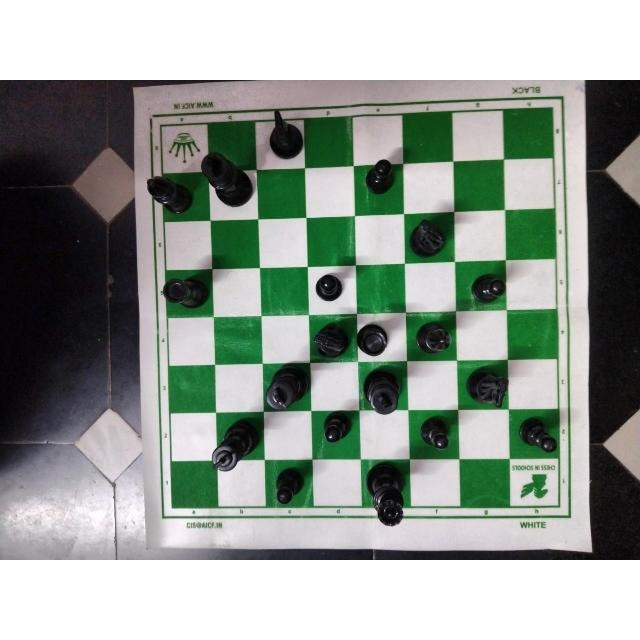black-bishop: (143, 174, 195, 218), (416, 320, 454, 358)
black-king: (200, 151, 256, 211), (208, 416, 262, 474), (263, 362, 309, 413), (361, 368, 404, 418)
black-knight: (462, 364, 510, 412), (266, 106, 306, 160), (410, 218, 450, 261), (311, 321, 353, 361)
black-pawn: (516, 414, 560, 458), (467, 270, 508, 310), (417, 416, 454, 458), (270, 463, 306, 506), (362, 156, 397, 197), (320, 407, 356, 444), (314, 272, 345, 305)
black-queen: (362, 460, 408, 533)
black-rook: (161, 275, 210, 311), (356, 321, 392, 359)
